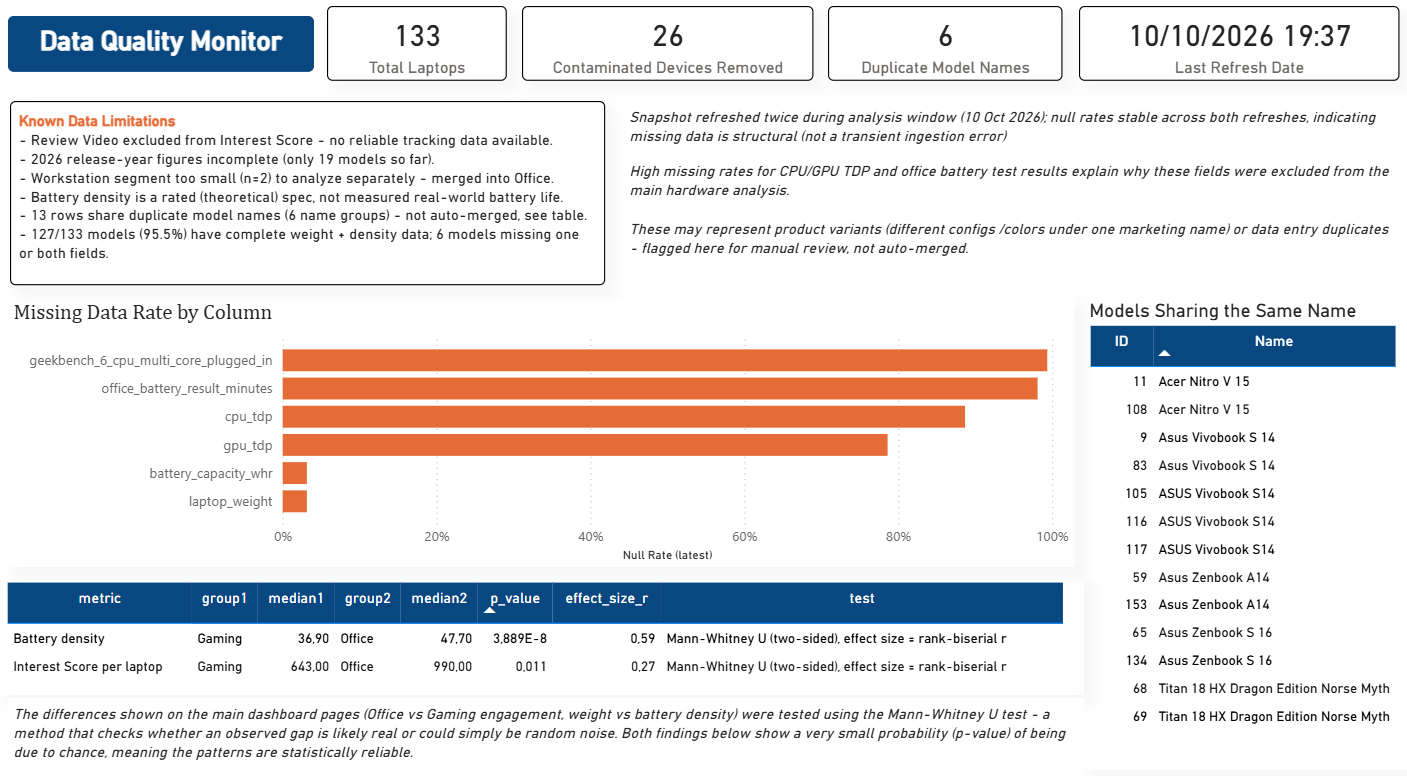

What the dashboard file says about the page in this screenshot:
{"tool":"powerbi","page":{"name":"Data Quality Monitor","canvas":[1280,720],"ordinal":3},"visuals":[{"type":"clusteredBarChart","title":"Missing Data Rate by Column","fields":{"Category":["dashboard_data_quality_history.column"],"Y":["dashboard_data_quality_history.Null Rate (latest)"]},"box":[20.5,273.9,955,239.7],"z":0},{"type":"textbox","box":[20.6,20.6,274,50.1],"z":1000},{"type":"card","fields":{"Values":["CountNonNull(dashboard_laptop.id)"]},"box":[306.4,11.7,161.5,67.1],"z":2000},{"type":"card","fields":{"Values":["_Measures.Contaminated Devices Removed"]},"box":[480.9,11.6,261.5,67.2],"z":3000},{"type":"card","fields":{"Values":["_Measures.Duplicate Model Names"]},"box":[754.9,11.6,210.4,67.2],"z":4000},{"type":"card","fields":{"Values":["_Measures.Last Refresh Date"]},"box":[979.7,11.6,287.5,67.2],"z":5000},{"type":"textbox","box":[572.3,96.6,694.6,48.9],"z":6000},{"type":"textbox","box":[572.3,145.5,694.6,51.4],"z":7000},{"type":"tableEx","title":"Models Sharing the Same Name","fields":{"Values":["dashboard_laptop.id","dashboard_laptop.name"]},"box":[984.1,273.9,292.3,421.9],"z":8000},{"type":"textbox","box":[572.3,196.9,694.6,57.5],"z":9000},{"type":"tableEx","fields":{"Values":["dashboard_stat_tests.metric","dashboard_stat_tests.group1","dashboard_stat_tests.median1","dashboard_stat_tests.group2","dashboard_stat_tests.median2","dashboard_stat_tests.p_value","dashboard_stat_tests.effect_size_r","dashboard_stat_tests.test"]},"box":[14.4,522.6,969.7,106.4],"z":10000},{"type":"textbox","box":[20.8,631,963.6,64.8],"z":11000},{"type":"textbox","box":[22,96.6,533.2,165.1],"z":12000}]}

Visuals, with their boxes in screenshot pixels (x1, y1, x2, y2), scaled from the page's 1280x720 canvas onto the 1407x776 screenshot:
"Missing Data Rate by Column" clusteredBarChart: (left=23, top=295, right=1072, bottom=554)
textbox: (left=23, top=22, right=324, bottom=76)
card - CountNonNull(dashboard_laptop.id): (left=337, top=13, right=514, bottom=85)
card - _Measures.Contaminated Devices Removed: (left=529, top=13, right=816, bottom=85)
card - _Measures.Duplicate Model Names: (left=830, top=13, right=1061, bottom=85)
card - _Measures.Last Refresh Date: (left=1077, top=13, right=1393, bottom=85)
textbox: (left=629, top=104, right=1393, bottom=157)
textbox: (left=629, top=157, right=1393, bottom=212)
"Models Sharing the Same Name" tableEx: (left=1082, top=295, right=1403, bottom=750)
textbox: (left=629, top=212, right=1393, bottom=274)
tableEx - dashboard_stat_tests.metric x dashboard_stat_tests.group1: (left=16, top=563, right=1082, bottom=678)
textbox: (left=23, top=680, right=1082, bottom=750)
textbox: (left=24, top=104, right=610, bottom=282)
